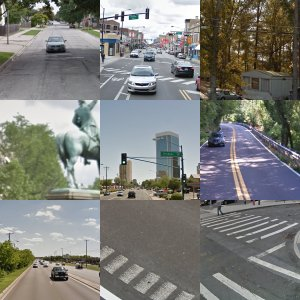汽車: (2, 32, 81, 84), (136, 179, 190, 200), (239, 125, 263, 152)
